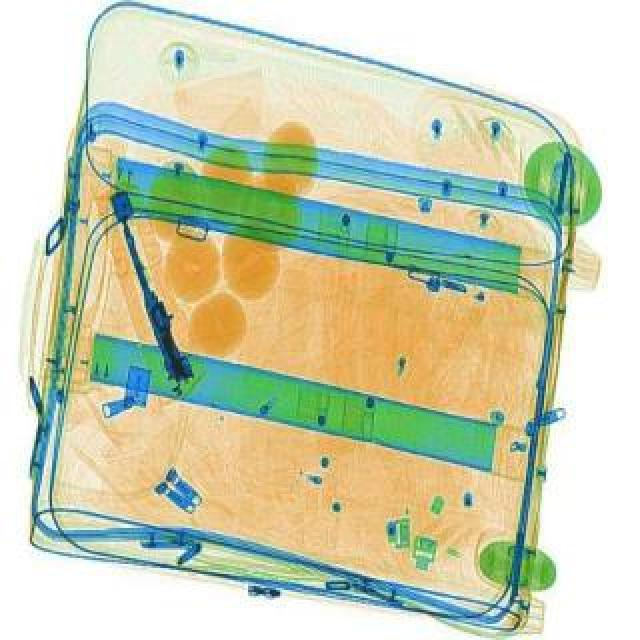gun: (96, 182, 204, 390)
